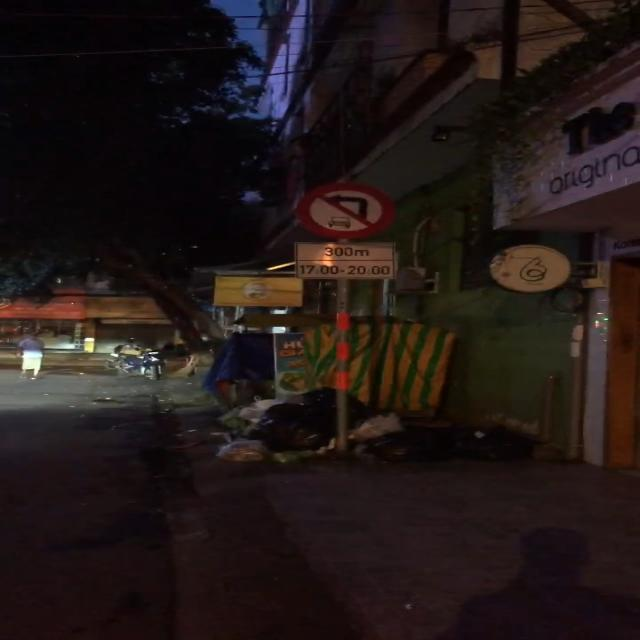Bien bao cam xe o to re trai: (292, 182, 394, 240)
